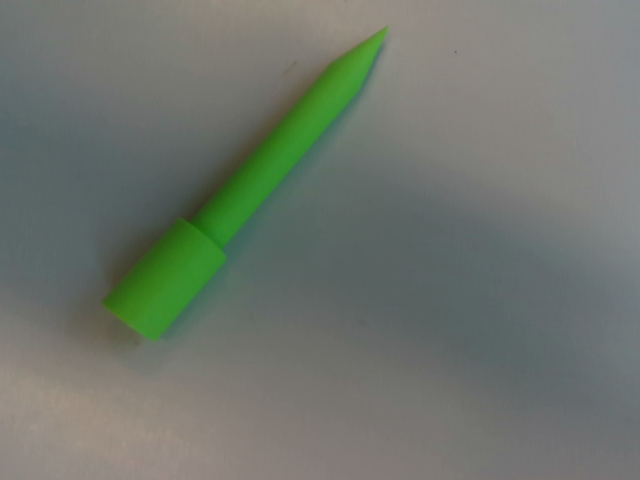Probe: (93, 21, 402, 351)
